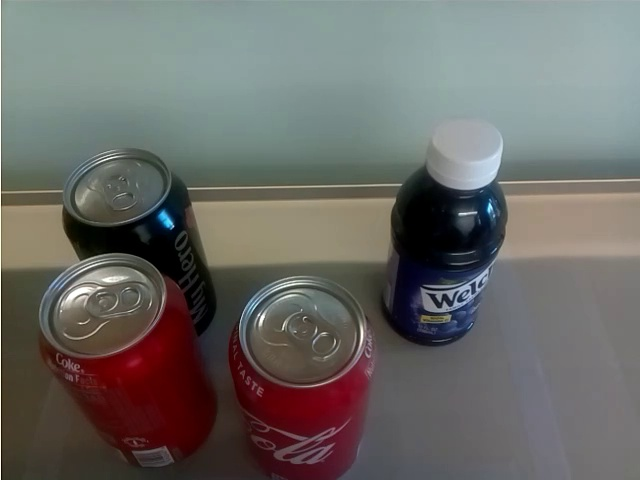cocacola: (24, 256, 217, 470), (228, 278, 382, 476), (55, 149, 193, 252)
juice: (382, 110, 508, 345)
